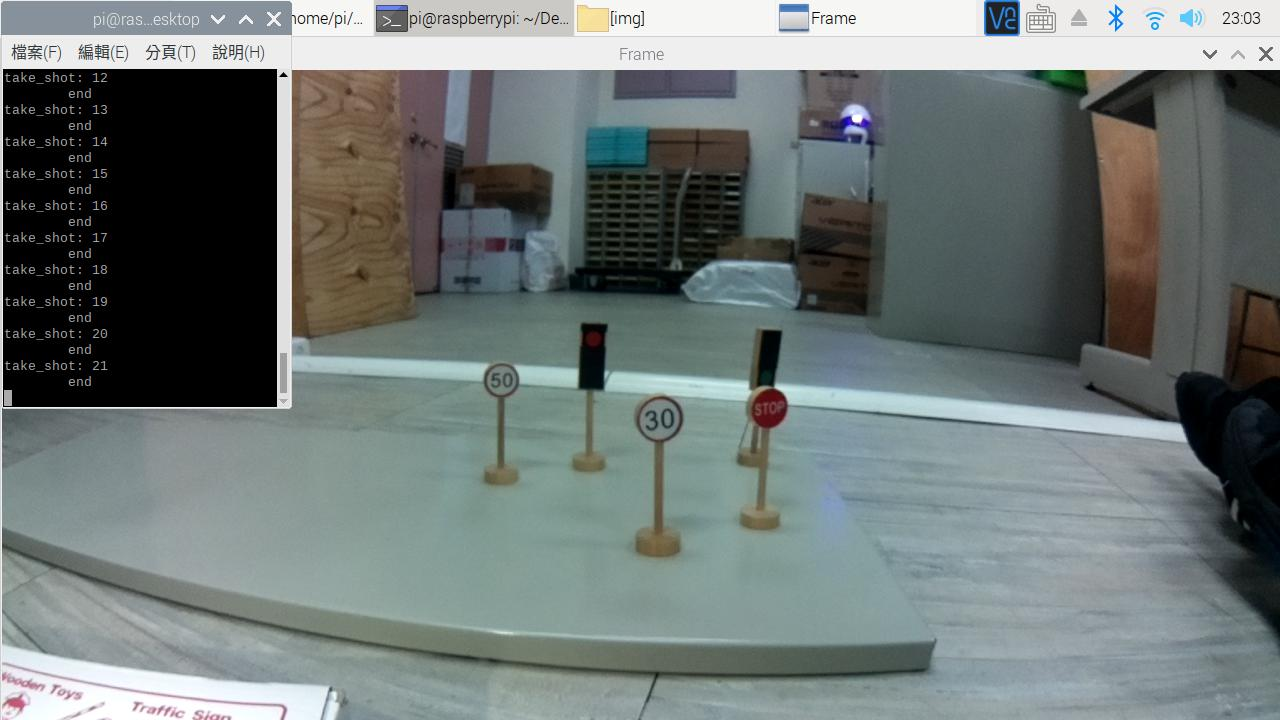Green: (754, 327, 774, 383)
Red: (579, 317, 602, 388)
Speed30: (633, 396, 684, 439)
Speed50: (479, 362, 520, 392)
Stop: (748, 390, 797, 431)
